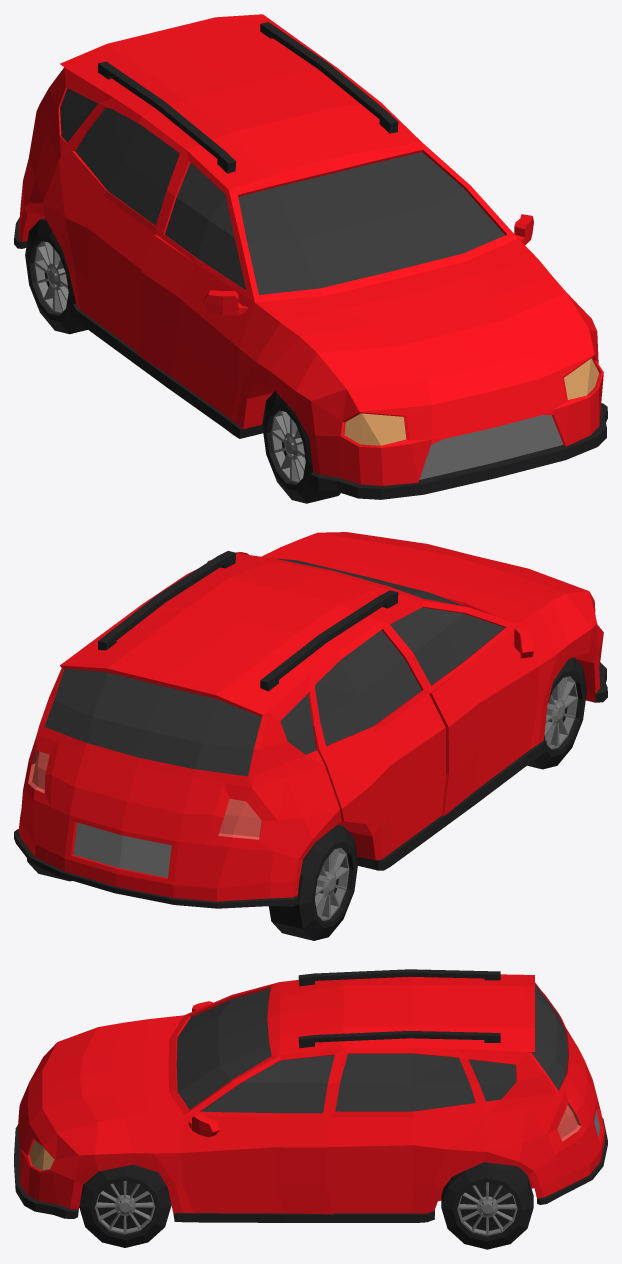
The model's file is car.glb.
3 renders of one model, top to bottom at view 1: azimuth 30°, elevation 25°; view 2: azimuth 150°, elevation 25°; view 3: azimuth 270°, elevation 25°, orthographic. The views are drawn at different scales.
Parts seen in each view (by area): view 1: SUV, SUV_FrontRightWheel, SUV_BackWheels; view 2: SUV, SUV_BackWheels, SUV_FrontRightWheel; view 3: SUV, SUV_BackWheels, SUV_FrontLeftWheel.
Boxes of the visible parts, bbox=[...] form: SUV: bbox=[14, 14, 607, 499]; SUV_FrontRightWheel: bbox=[262, 391, 340, 503]; SUV_BackWheels: bbox=[25, 218, 87, 334]; SUV: bbox=[14, 532, 607, 908]; SUV_BackWheels: bbox=[27, 824, 358, 940]; SUV_FrontRightWheel: bbox=[527, 657, 586, 769]; SUV: bbox=[14, 969, 607, 1222]; SUV_BackWheels: bbox=[441, 1162, 533, 1249]; SUV_FrontLeftWheel: bbox=[79, 1164, 171, 1247].
Size of the model in its own units: 2.11 by 1.53 by 4.21.
